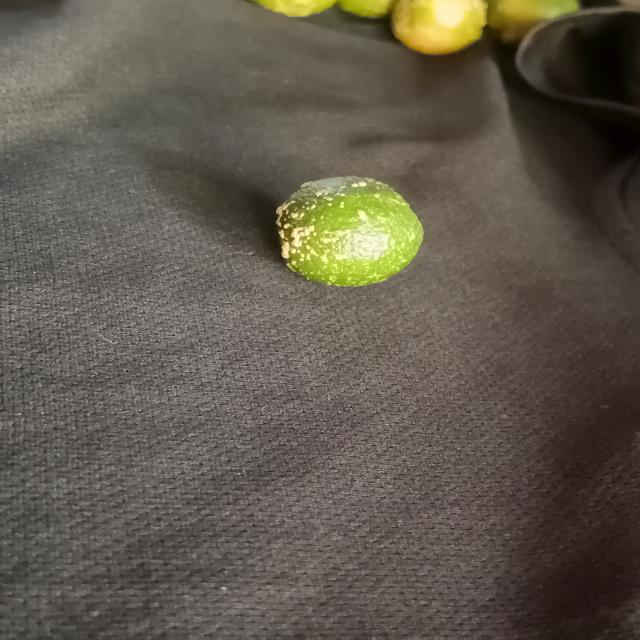scab: (264, 177, 428, 294)
